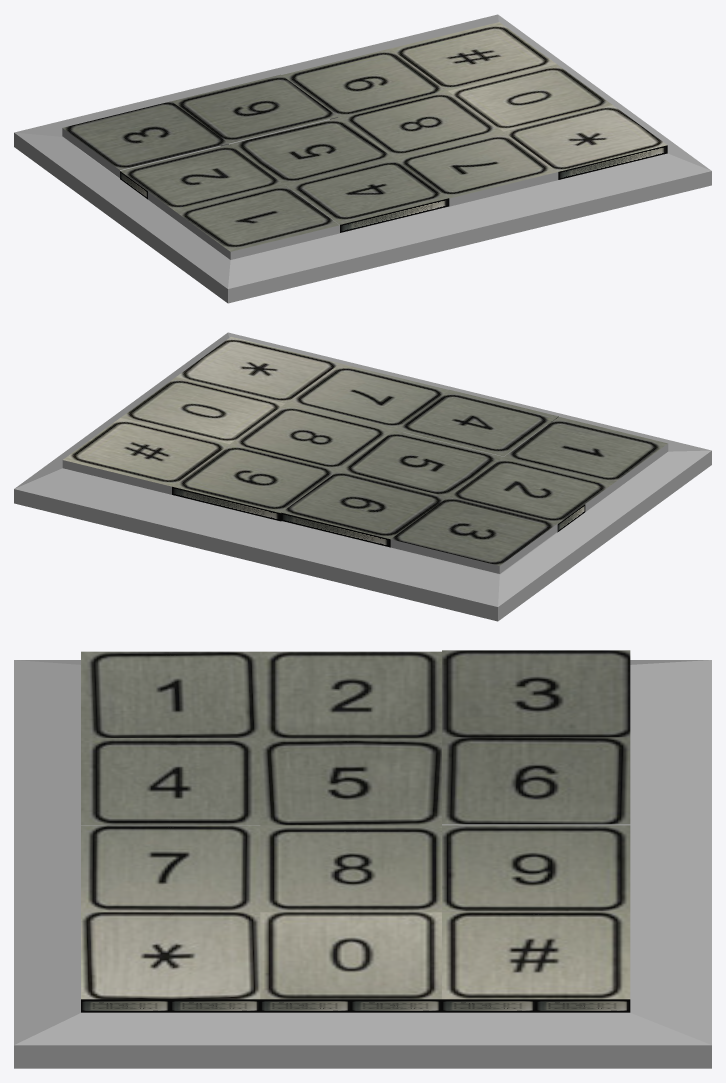
File: pad.fbx
3 views of the same model, one above another, from view 1: azimuth 30°, elevation 25°; view 2: azimuth 150°, elevation 25°; view 3: azimuth 270°, elevation 25° (orthographic). The views are drawn at different scales.
Parts seen in each view (by area): view 1: Cube, Cube.009, Cube.010, Cube.012, Cube.011, Cube.007, Cube.008, Cube.020, Cube.018, Cube.019, Cube.021, Cube.013 (+1 smaller); view 2: Cube, Cube.007, Cube.020, Cube.018, Cube.019, Cube.009, Cube.008, Cube.021, Cube.013, Cube.010, Cube.012, Cube.014 (+1 smaller); view 3: Cube, Cube.020, Cube.021, Cube.012, Cube.019, Cube.018, Cube.007, Cube.014, Cube.013, Cube.008, Cube.011, Cube.010 (+1 smaller).
Boxes of the visible parts, bbox=[...] form: Cube: bbox=[14, 14, 711, 303]; Cube.009: bbox=[175, 185, 339, 259]; Cube.010: bbox=[285, 158, 449, 232]; Cube.012: bbox=[504, 105, 667, 179]; Cube.011: bbox=[395, 131, 558, 206]; Cube.007: bbox=[62, 101, 228, 177]; Cube.008: bbox=[120, 144, 284, 219]; Cube.020: bbox=[390, 22, 556, 90]; Cube.018: bbox=[172, 74, 337, 143]; Cube.019: bbox=[282, 48, 447, 117]; Cube.021: bbox=[448, 64, 612, 131]; Cube.013: bbox=[339, 91, 502, 158]; Cube: bbox=[14, 332, 711, 621]; Cube.007: bbox=[390, 497, 557, 573]; Cube.020: bbox=[62, 417, 229, 494]; Cube.018: bbox=[281, 470, 447, 547]; Cube.019: bbox=[172, 444, 337, 521]; Cube.009: bbox=[504, 417, 668, 491]; Cube.008: bbox=[449, 457, 613, 531]; Cube.021: bbox=[121, 377, 284, 444]; Cube.013: bbox=[230, 403, 393, 470]; Cube.010: bbox=[395, 389, 558, 456]; Cube.012: bbox=[176, 337, 339, 403]; Cube.014: bbox=[340, 430, 503, 496]; Cube: bbox=[14, 660, 711, 1068]; Cube.020: bbox=[442, 912, 630, 1012]; Cube.021: bbox=[260, 912, 441, 1012]; Cube.012: bbox=[81, 912, 260, 1012]; Cube.019: bbox=[442, 825, 630, 912]; Cube.018: bbox=[442, 737, 630, 824]; Cube.007: bbox=[442, 650, 630, 737]; Cube.014: bbox=[260, 738, 441, 825]; Cube.013: bbox=[260, 825, 441, 912]; Cube.008: bbox=[260, 651, 441, 738]; Cube.011: bbox=[81, 825, 260, 912]; Cube.010: bbox=[81, 738, 260, 824].
Bounding box in the file's own units: 332 × 20.74 × 254.
Materials: 13 (12 with a texture image).
